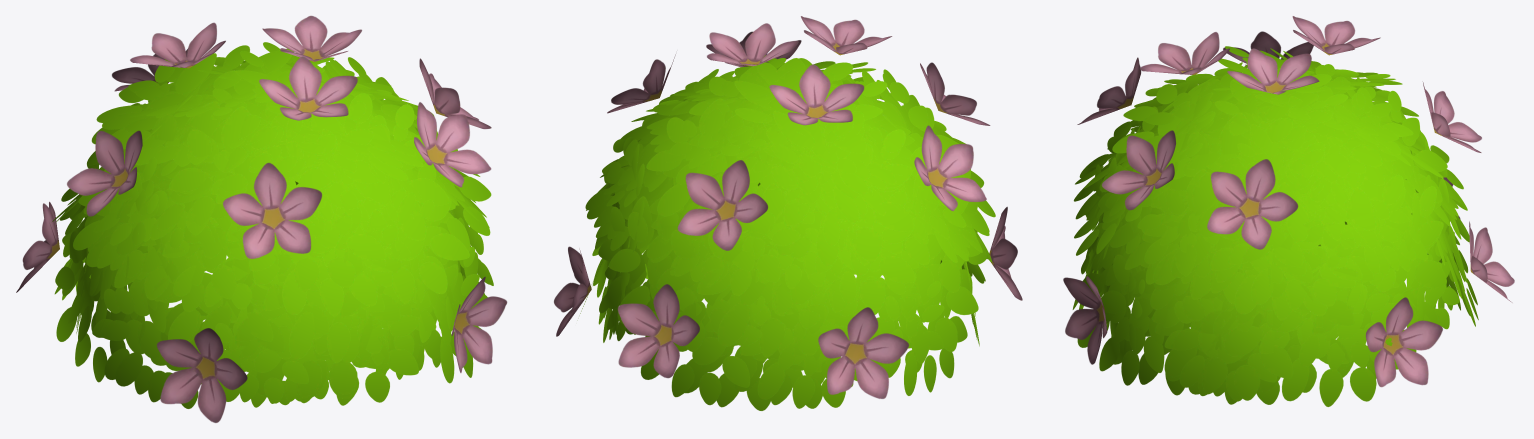
Rendered from bush_flowers_1.glb.
3 renders of one model, left to right at view 1: azimuth 30°, elevation 25°; view 2: azimuth 150°, elevation 25°; view 3: azimuth 270°, elevation 25°, orthographic. The views are drawn at different scales.
Size of the model in its own units: 1.09 by 0.7586 by 1.11.
2 materials, 2 textured.
